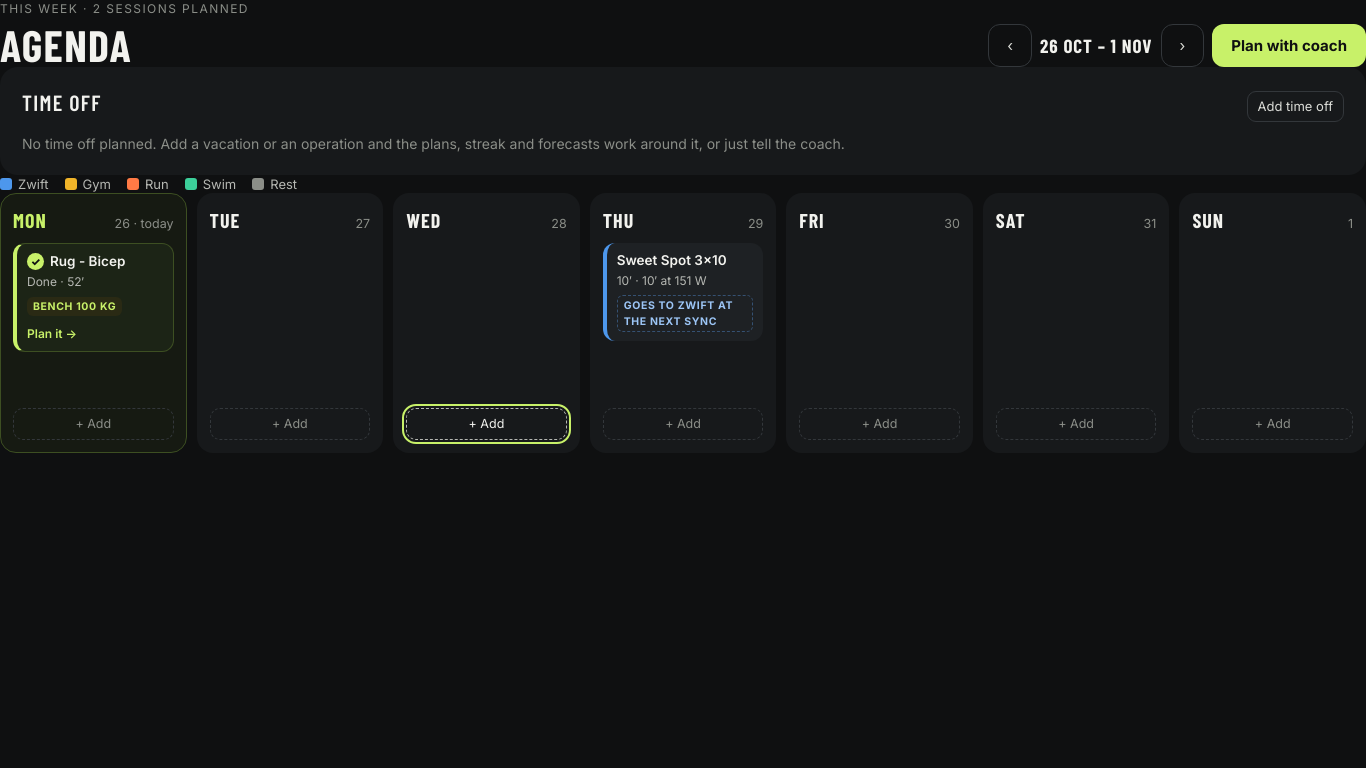
Test: Agenda page › gives focus back to the + Add button when the sheet closes
Expected: the text "Sweet Spot 3x10" is shown, [617,252,727,270]
Click the button with aria-label "Add to Wednesday" at (486, 424), box [406,408,567,440]
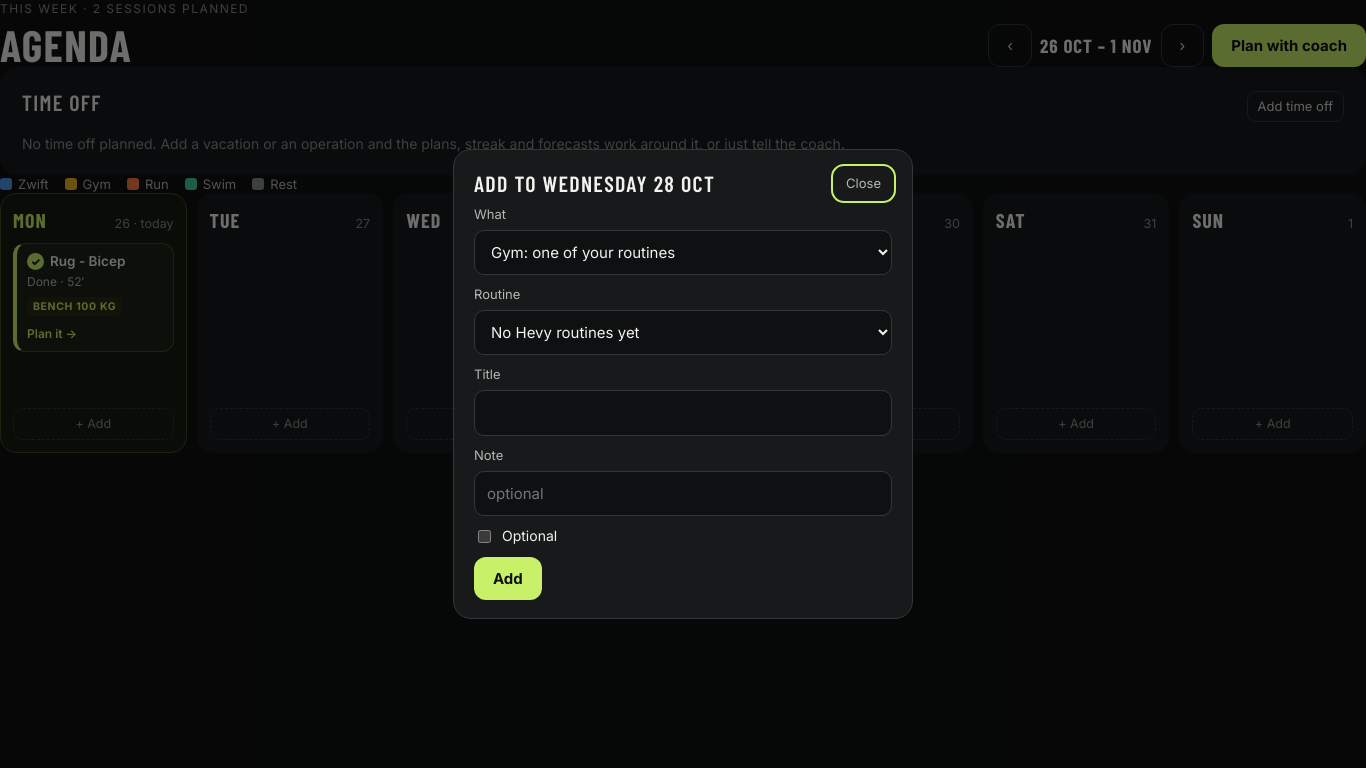
Result: the dialog is shown at [453,149,913,619]
Press Escape
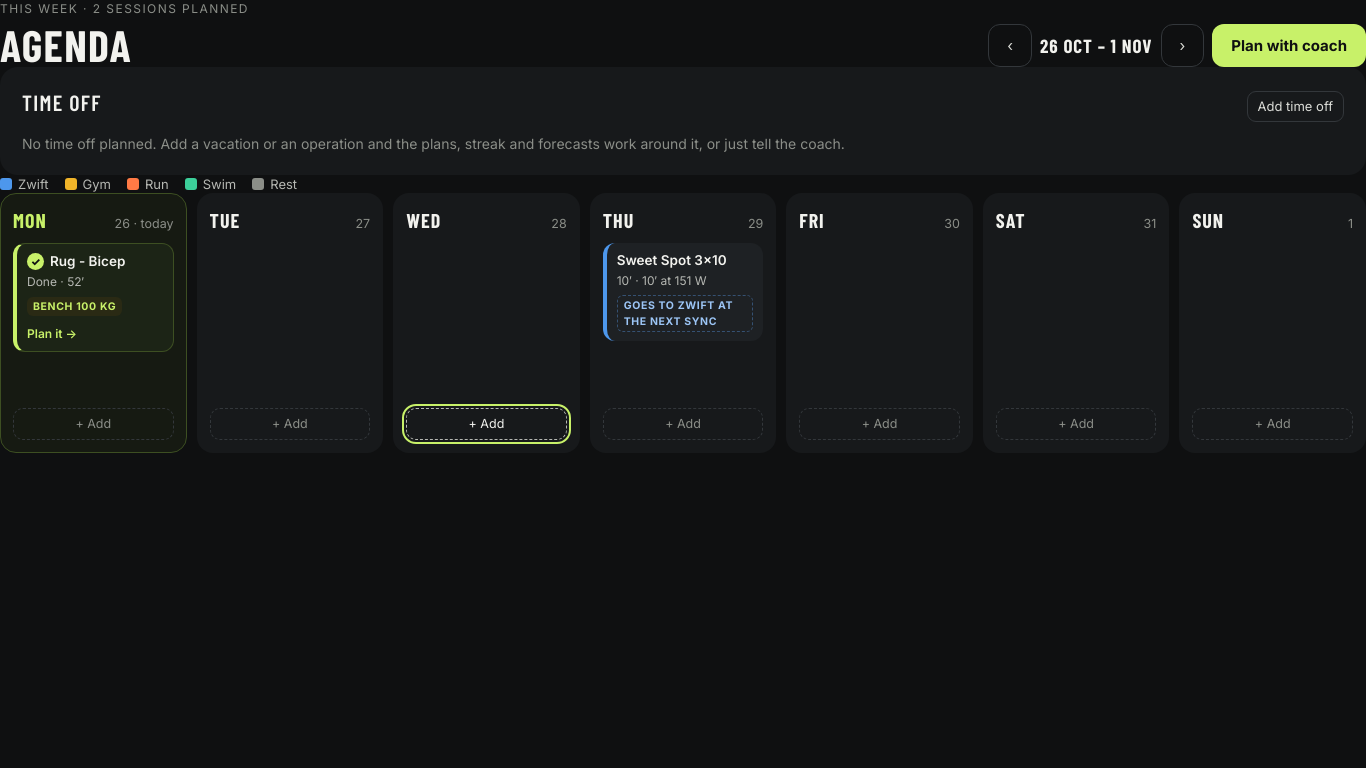
Result: the dialog is gone
